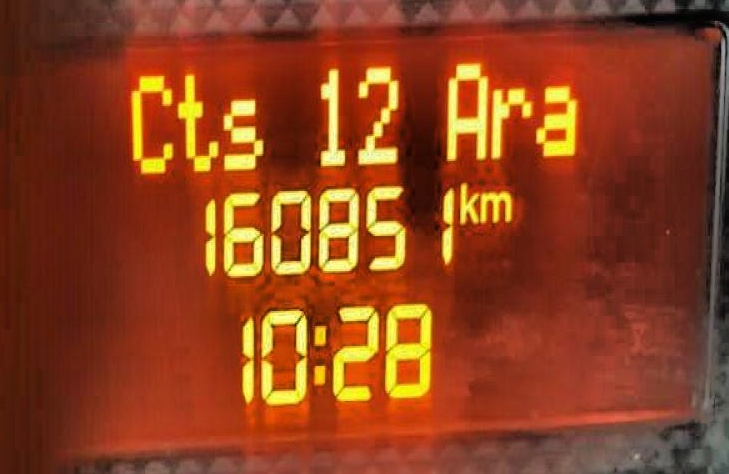0: (258, 304, 306, 407), (268, 182, 312, 276)
1: (317, 59, 347, 174), (237, 312, 256, 407), (198, 189, 216, 275), (438, 182, 453, 271)
2: (351, 59, 401, 167), (330, 300, 380, 404)
5: (364, 179, 410, 274)
6: (220, 186, 265, 281)
8: (383, 299, 432, 402), (315, 182, 360, 274)
X: (127, 69, 173, 179), (444, 54, 487, 164), (173, 71, 218, 176), (534, 80, 580, 159), (221, 89, 263, 172), (488, 82, 531, 157), (310, 319, 327, 395), (480, 185, 511, 224), (457, 177, 477, 226)
